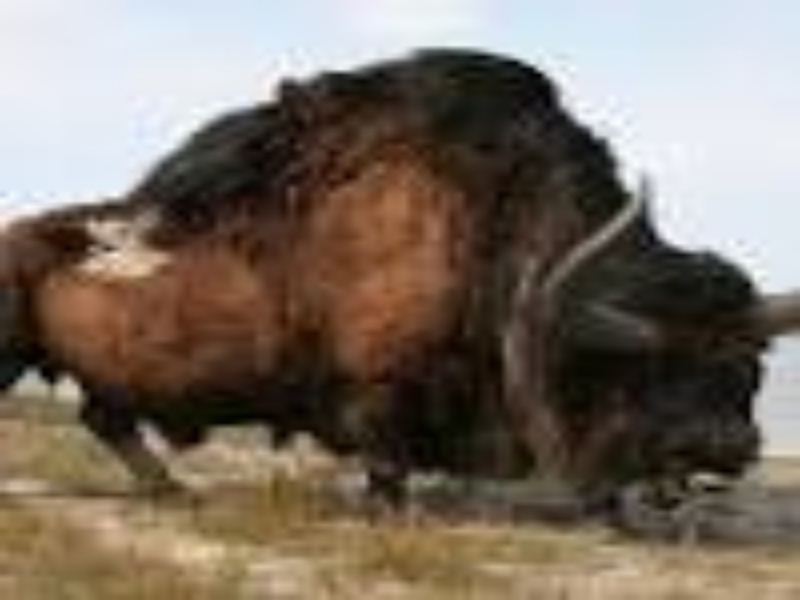buffalo: (84, 58, 769, 552)
